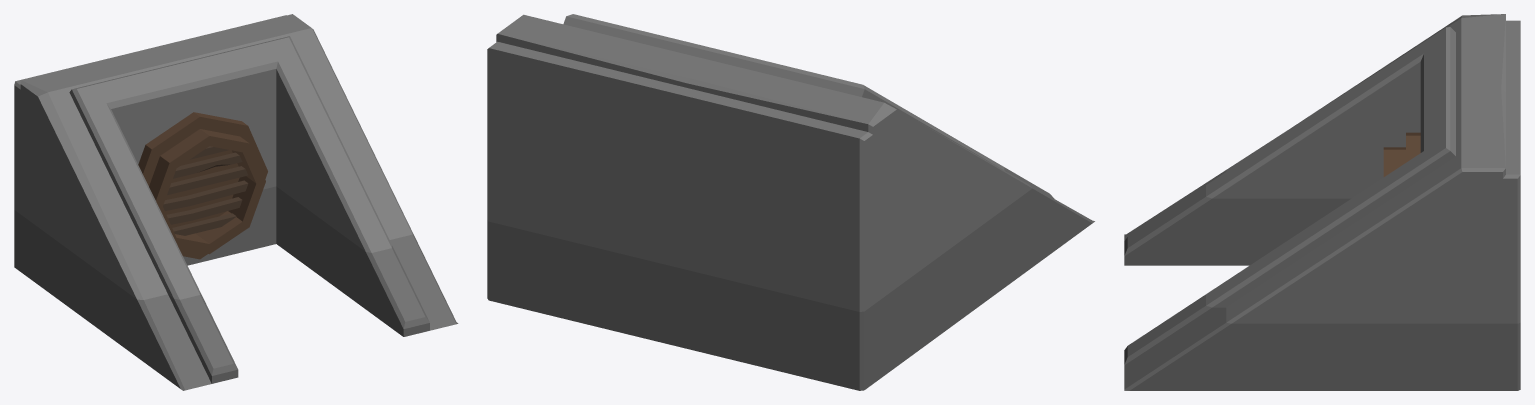
File: SM_Envr_Canal_Discharge_01.fbx
The picture shows the model from 3 angles, left to right: view 1: azimuth 30°, elevation 25°; view 2: azimuth 150°, elevation 25°; view 3: azimuth 270°, elevation 25°; orthographic projection. The views are drawn at different scales.
Parts seen in each view (by area): view 1: SM_Envr_Canal_Discharge_01; view 2: SM_Envr_Canal_Discharge_01; view 3: SM_Envr_Canal_Discharge_01.
Part boxes in pixels (<box>): SM_Envr_Canal_Discharge_01: <box>14,14,458,390</box>; SM_Envr_Canal_Discharge_01: <box>487,14,1094,390</box>; SM_Envr_Canal_Discharge_01: <box>1124,14,1520,390</box>.
Bounding box in the file's own units: 500 × 335 × 535.
